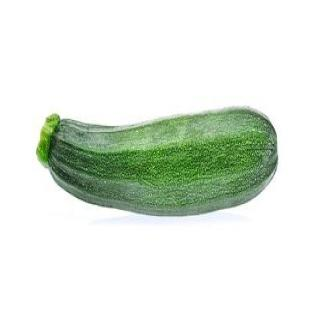Zucchini: (37, 108, 277, 214)
